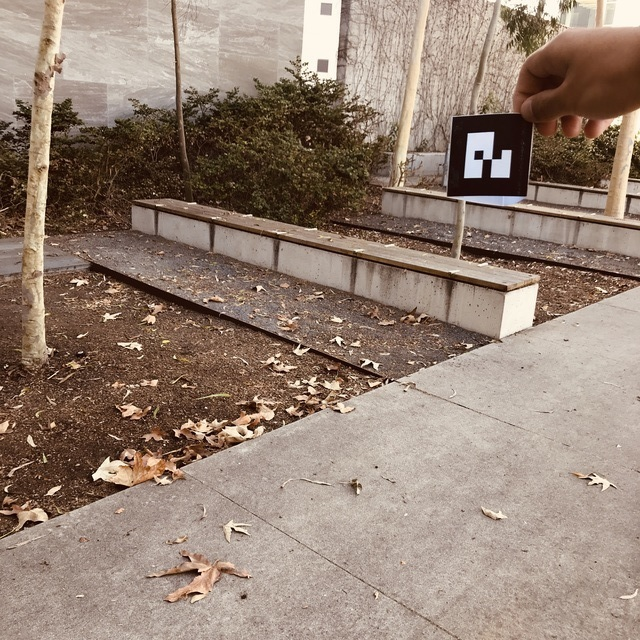ARTag: (446, 112, 530, 208)
